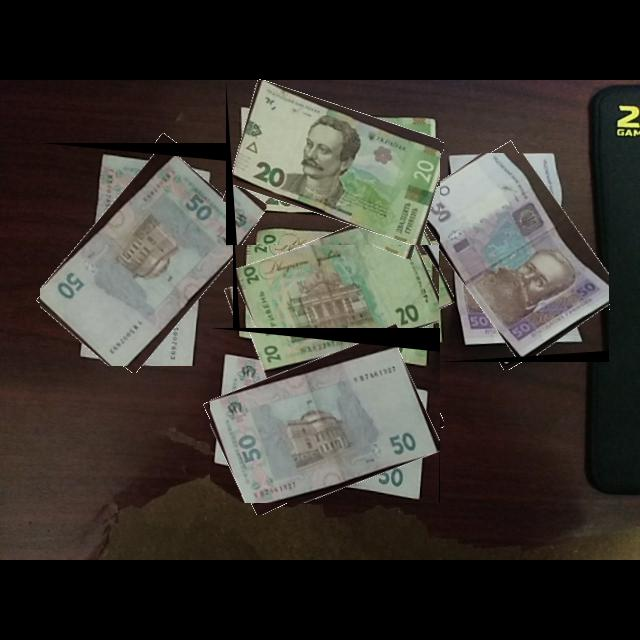20uah: (231, 80, 441, 246), (236, 223, 440, 367)
50uah: (40, 154, 253, 367), (411, 153, 610, 359), (210, 344, 440, 504)
